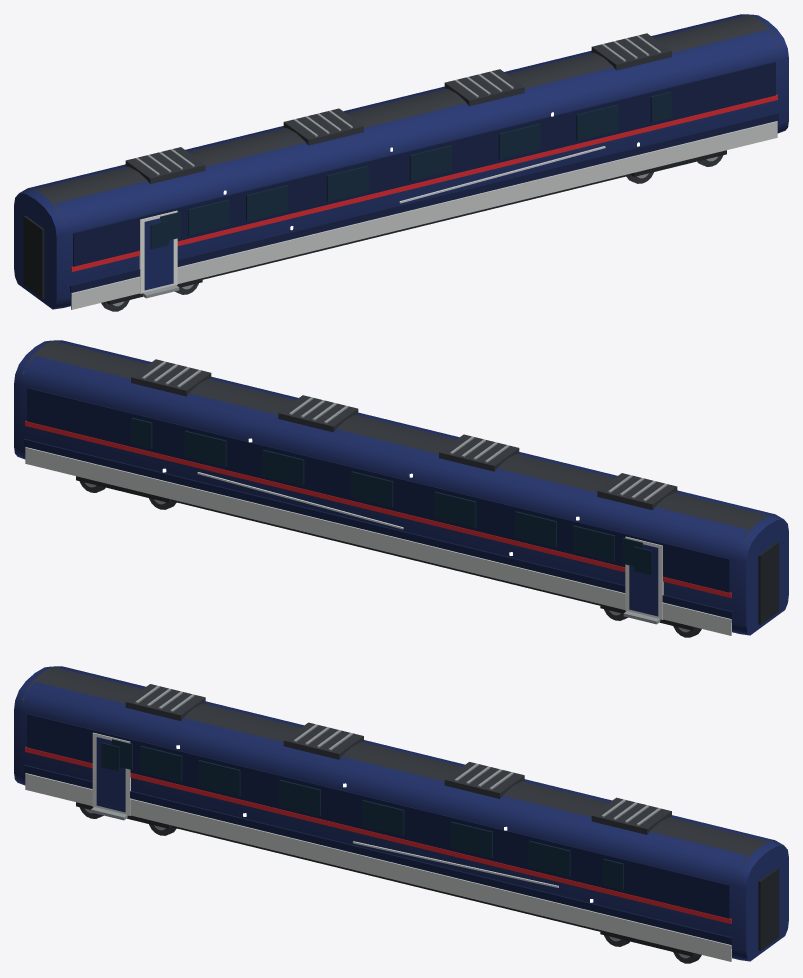
The model's file is nightjet-new-generation-multifunction.glb.
The picture shows the model from 3 angles, top to bottom: view 1: azimuth 30°, elevation 25°; view 2: azimuth 150°, elevation 25°; view 3: azimuth 330°, elevation 25°; orthographic projection.
Parts seen in each view (by area): view 1: nightjet_multifunction_lofted_body, multifunction_window_backdrop_-1, multifunction_silver_skirt_-1, multifunction_roof_cap, multifunction_dark_sill_-1, multifunction_red_belt_-1, gangway_1.003, multifunction_roof_hvac_2, multifunction_roof_hvac_0, multifunction_roof_hvac_1, multifunction_roof_hvac_3, multifunction_door_leaf_-1 (+10 smaller); view 2: nightjet_multifunction_lofted_body, multifunction_window_backdrop_1, multifunction_silver_skirt_1, multifunction_roof_cap, multifunction_dark_sill_1, multifunction_red_belt_1, gangway_1.003, multifunction_roof_hvac_2, multifunction_roof_hvac_0, multifunction_roof_hvac_1, multifunction_roof_hvac_3, multifunction_door_leaf_1 (+12 smaller); view 3: nightjet_multifunction_lofted_body, multifunction_window_backdrop_-1, multifunction_silver_skirt_-1, multifunction_roof_cap, multifunction_dark_sill_-1, multifunction_red_belt_-1, gangway_0.003, multifunction_roof_hvac_2, multifunction_roof_hvac_0, multifunction_roof_hvac_1, multifunction_roof_hvac_3, multifunction_door_leaf_-1 (+10 smaller).
Boxes of the visible parts, x1,y1,x2,y2 form: nightjet_multifunction_lofted_body: [14, 14, 788, 309]; multifunction_window_backdrop_-1: [73, 61, 775, 266]; multifunction_silver_skirt_-1: [71, 121, 777, 309]; multifunction_roof_cap: [27, 14, 780, 222]; multifunction_dark_sill_-1: [70, 113, 778, 292]; multifunction_red_belt_-1: [71, 94, 777, 271]; gangway_1.003: [23, 215, 44, 298]; multifunction_roof_hvac_2: [444, 69, 524, 106]; multifunction_roof_hvac_0: [125, 147, 205, 184]; multifunction_roof_hvac_1: [283, 108, 363, 145]; multifunction_roof_hvac_3: [591, 33, 671, 70]; multifunction_door_leaf_-1: [144, 218, 173, 290]; nightjet_multifunction_lofted_body: [14, 340, 788, 635]; multifunction_window_backdrop_1: [27, 387, 729, 592]; multifunction_silver_skirt_1: [25, 447, 731, 635]; multifunction_roof_cap: [22, 340, 775, 548]; multifunction_dark_sill_1: [24, 439, 732, 618]; multifunction_red_belt_1: [25, 420, 731, 597]; gangway_1.003: [758, 541, 779, 624]; multifunction_roof_hvac_2: [278, 395, 358, 432]; multifunction_roof_hvac_0: [597, 473, 677, 510]; multifunction_roof_hvac_1: [439, 434, 519, 471]; multifunction_roof_hvac_3: [131, 359, 211, 396]; multifunction_door_leaf_1: [629, 544, 658, 616]; nightjet_multifunction_lofted_body: [14, 666, 788, 961]; multifunction_window_backdrop_-1: [27, 713, 729, 918]; multifunction_silver_skirt_-1: [25, 773, 731, 961]; multifunction_roof_cap: [22, 666, 775, 874]; multifunction_dark_sill_-1: [24, 765, 732, 944]; multifunction_red_belt_-1: [25, 746, 731, 923]; gangway_0.003: [758, 867, 779, 950]; multifunction_roof_hvac_2: [444, 762, 524, 798]; multifunction_roof_hvac_0: [125, 684, 205, 720]; multifunction_roof_hvac_1: [283, 722, 363, 759]; multifunction_roof_hvac_3: [591, 797, 671, 834]; multifunction_door_leaf_-1: [96, 737, 125, 812].
Size of the model in its own units: 26.56 by 4.36 by 3.45.
